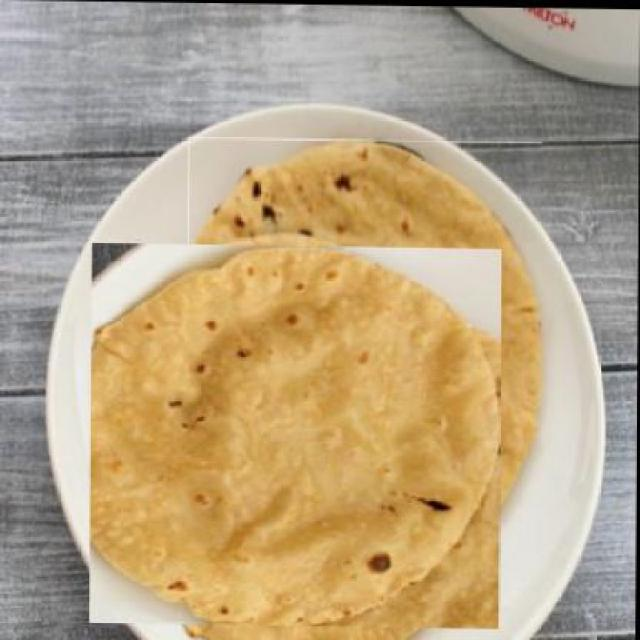chapati: (98, 235, 496, 637), (187, 136, 544, 524)
